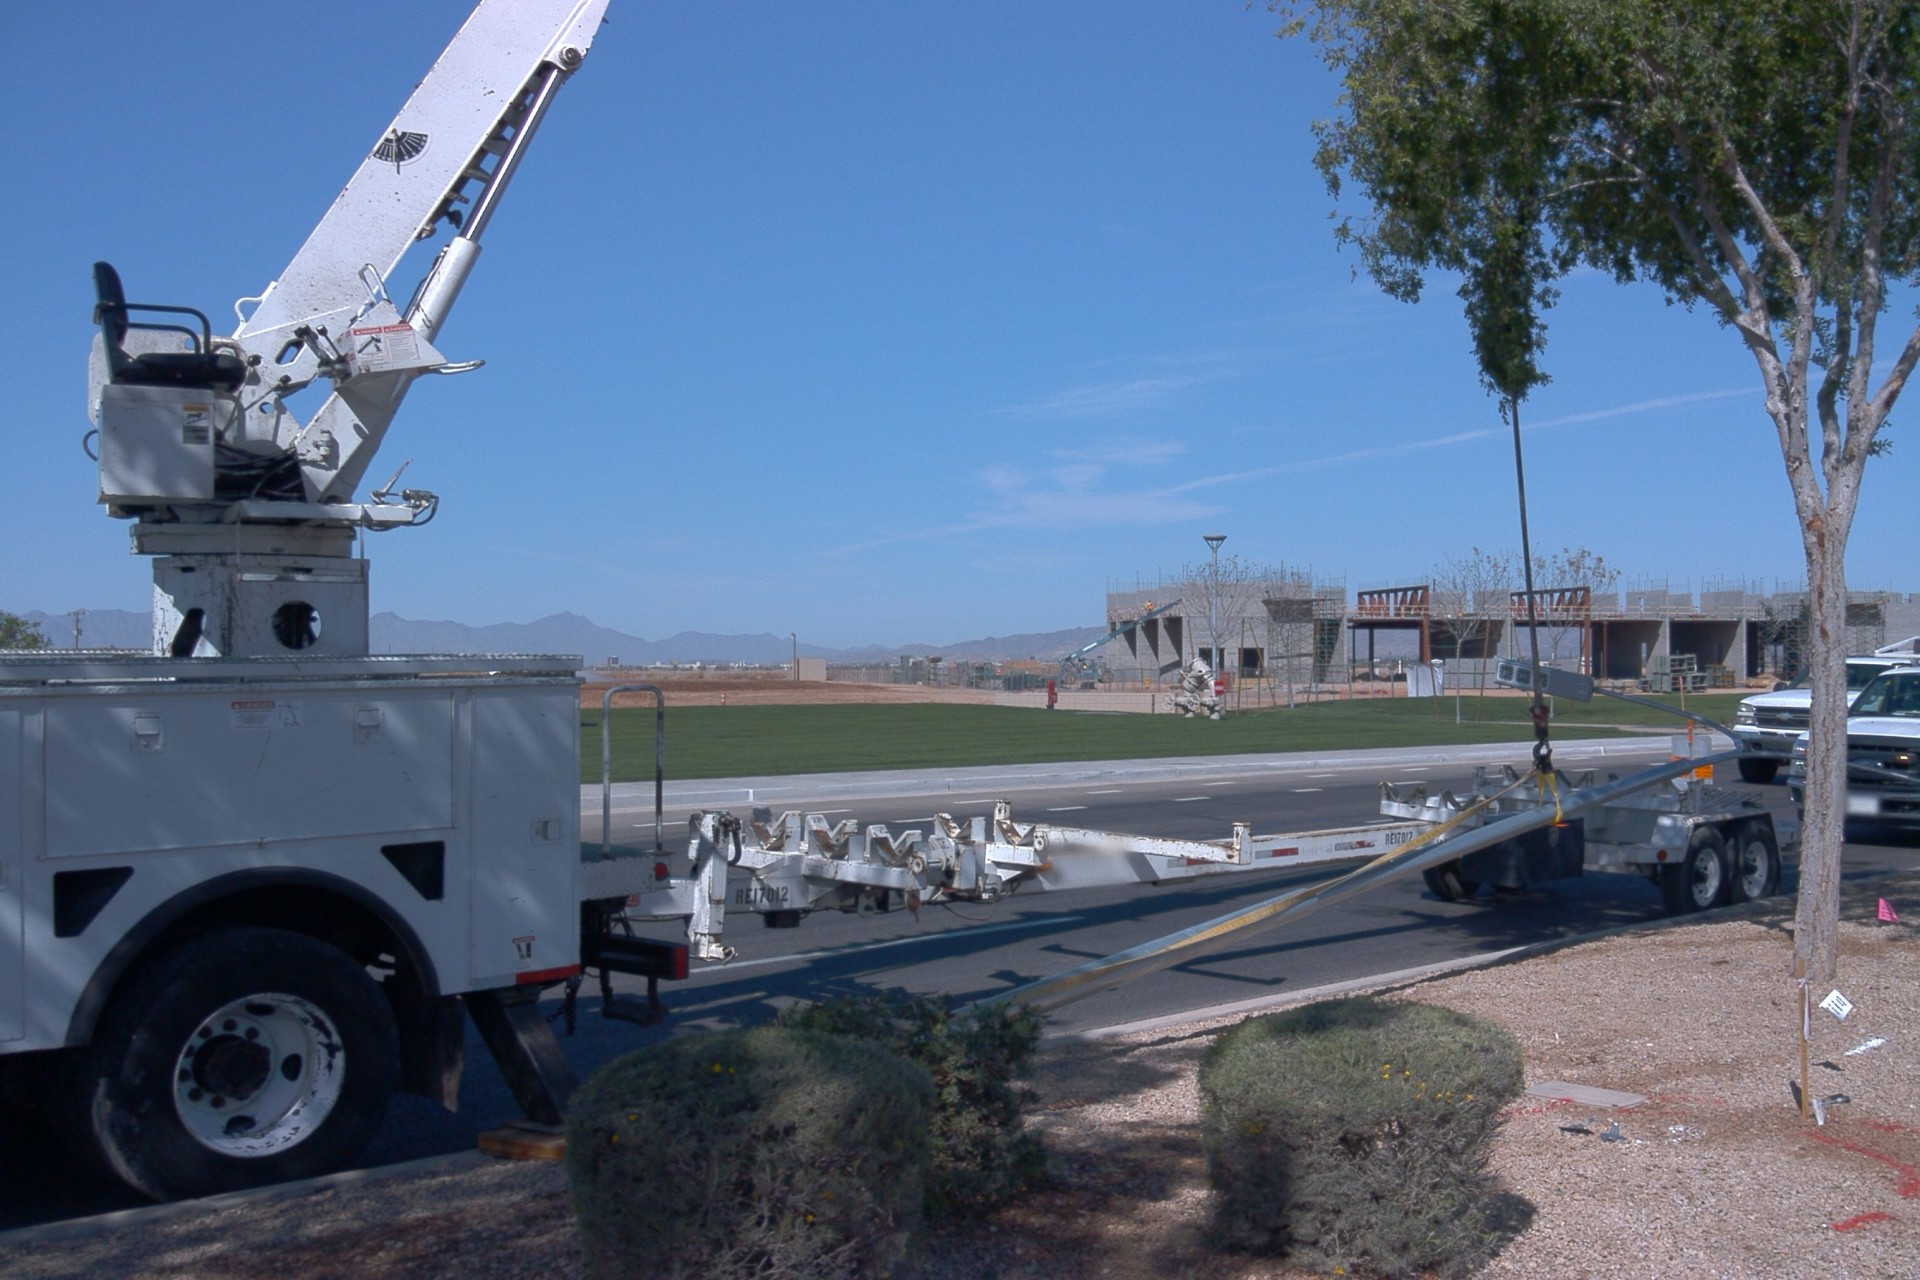TYPE_VEHICLE: (0, 0, 697, 1207), (643, 661, 1810, 1011), (1784, 636, 1920, 848), (1732, 649, 1920, 783), (1062, 602, 1191, 686)
